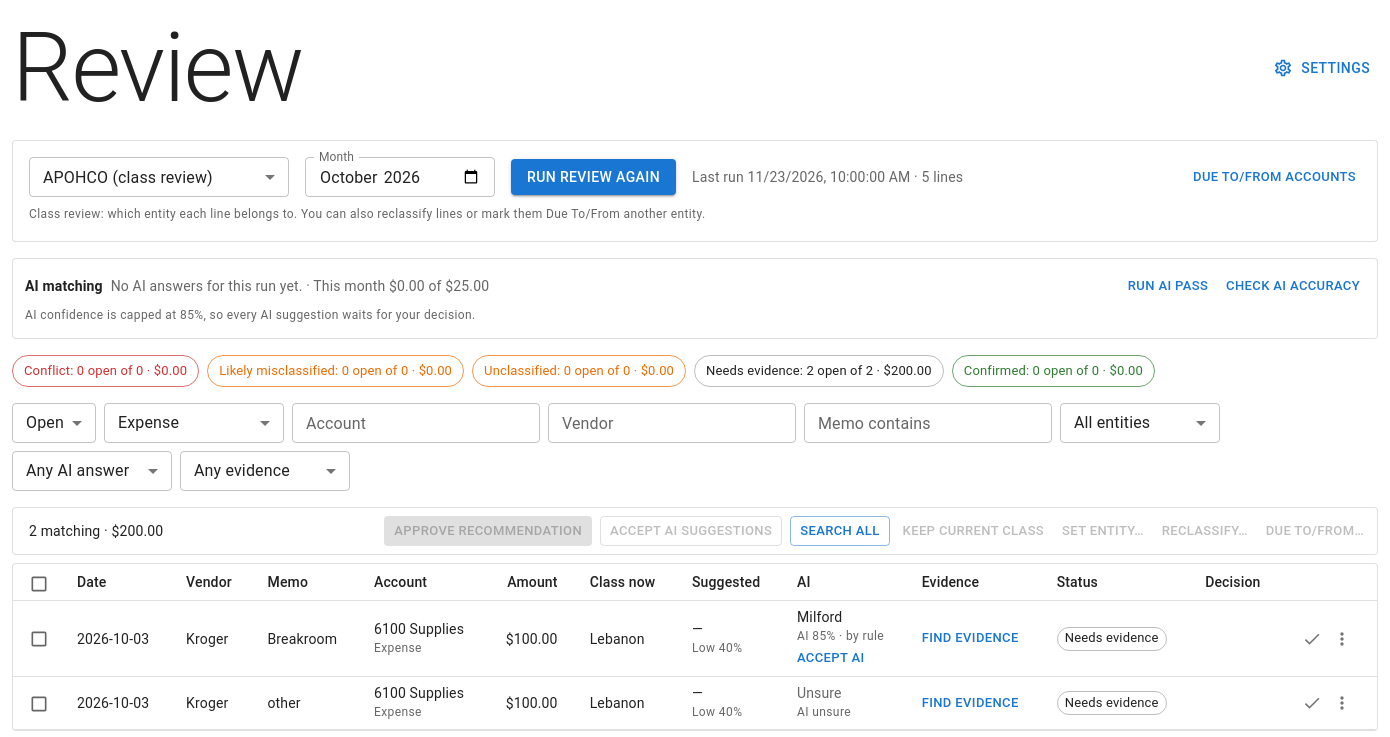
Scenario: the AI column shows the suggestion; Accept AI records it for that line
Expected: the text "Breakroom" is shown, [252,601,358,676]
Expected: the text "Milford" is shown, [797,609,842,625]
What coordinates should you click on to do the following:
click the button "Accept AI"
I would click on:
 (831, 659)
Its box is [797,647,865,670].
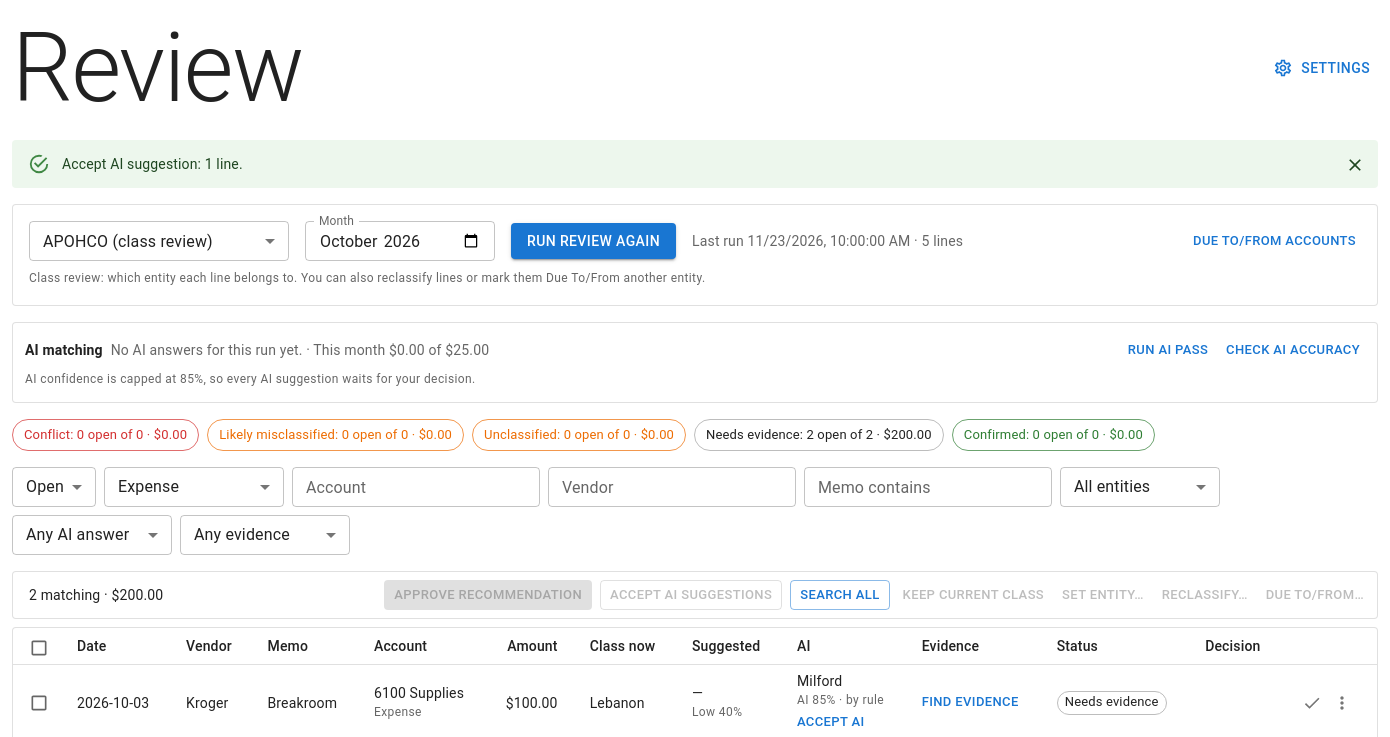
Now the text "Accept AI suggestion: 1 line." is shown, box [62,156,243,172]
